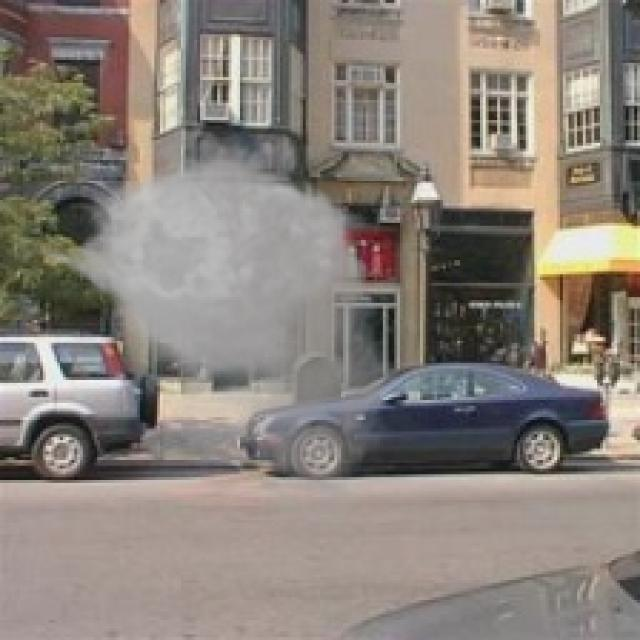Smoke: (22, 109, 408, 528)
